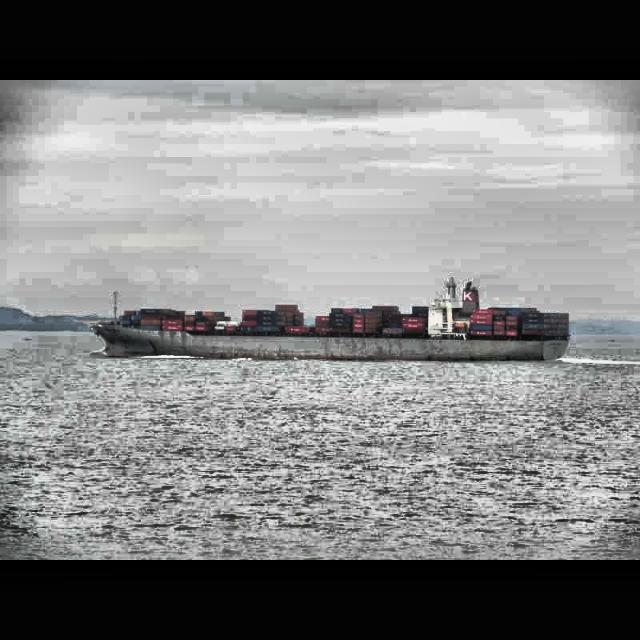container: (91, 274, 571, 362)
